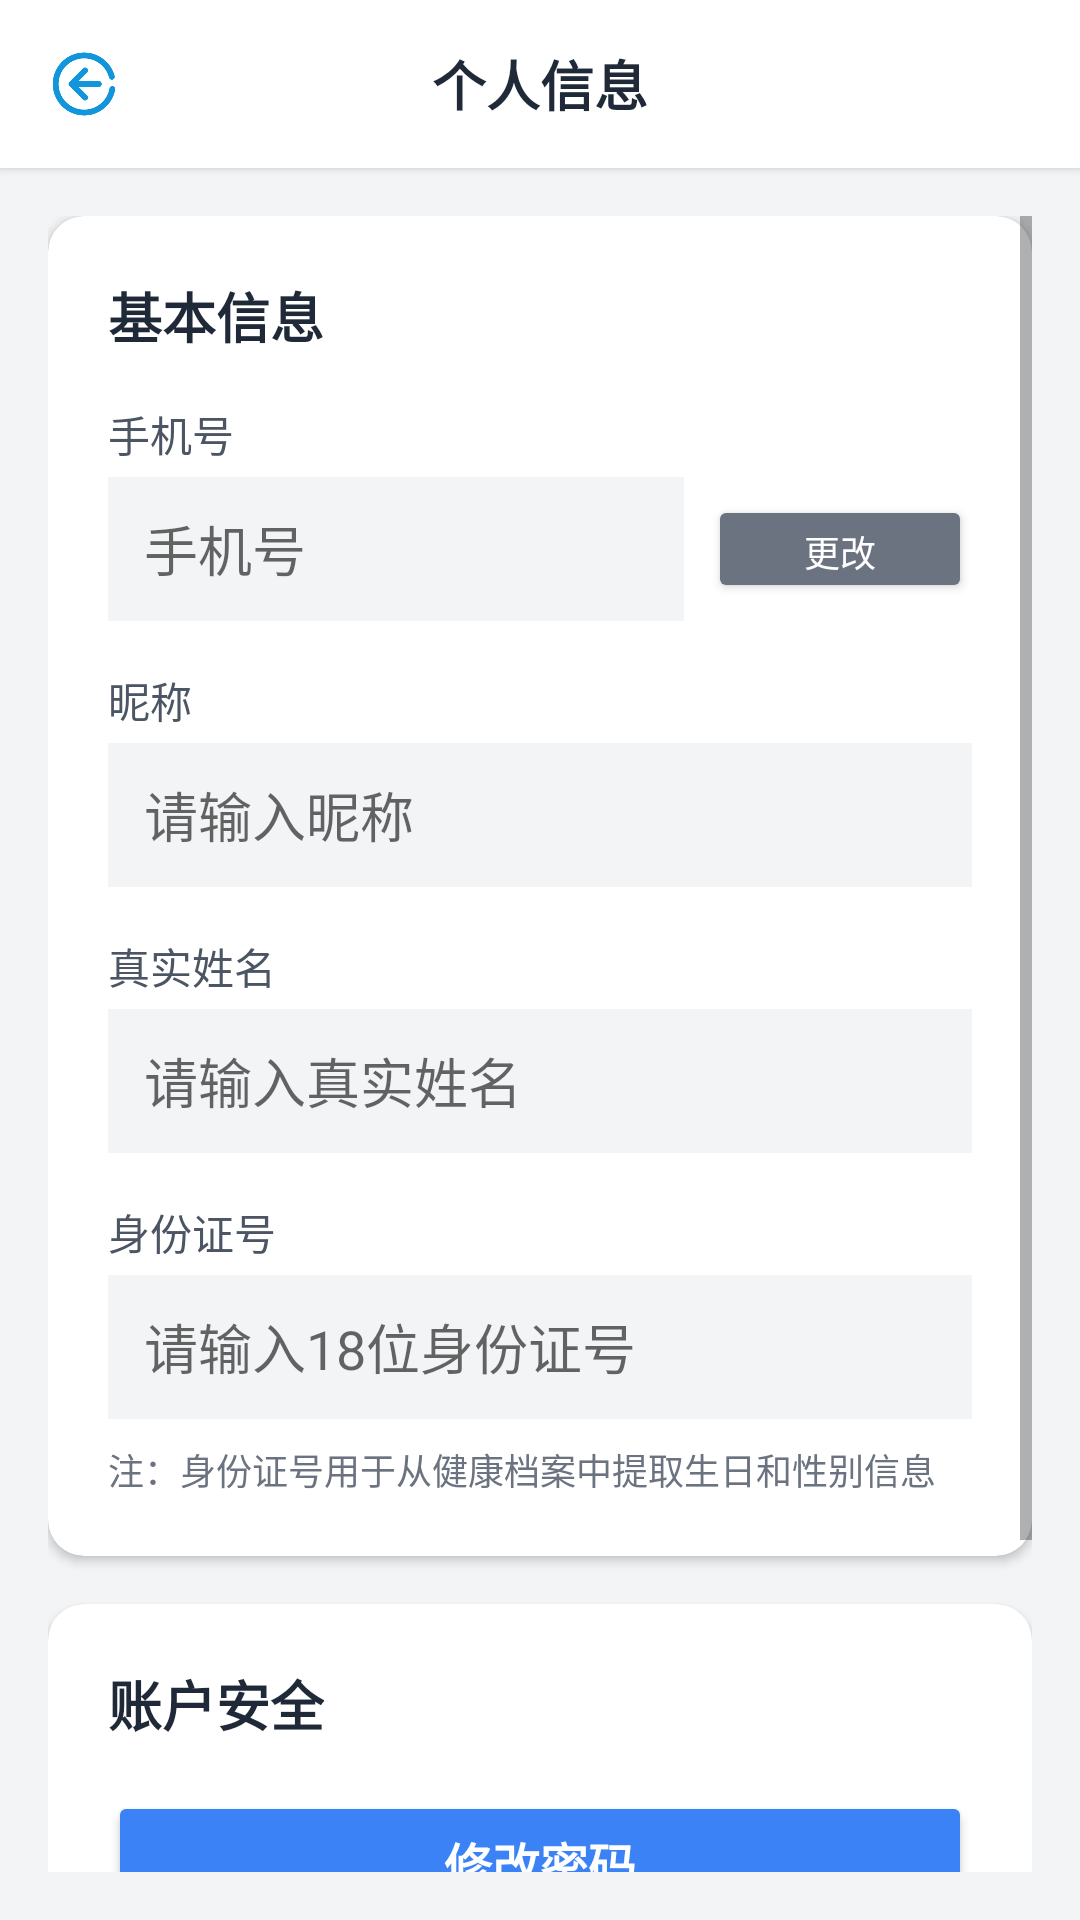

Screen size 1080*1920. Icon name, then its box in pixels as box=[x1, y1, x2, y2]:
exit: box=[53, 52, 115, 116]
